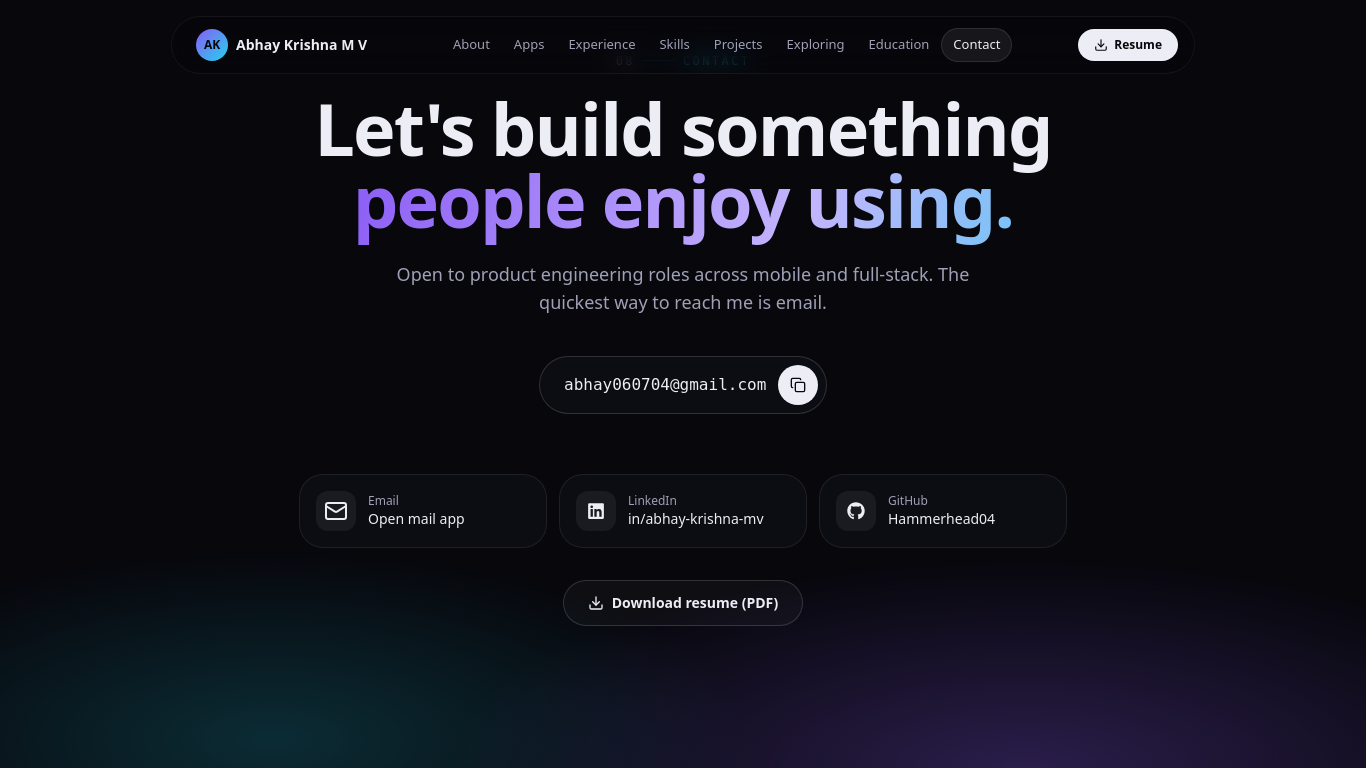
Portfolio page › copies the email to the clipboard
(page scrolled)
expect the link with test id "resume-download" is shown: met, box [563,580,803,626]
Click the button with aria-label "copy email address".
click(683, 385)  # box [539,356,827,414]
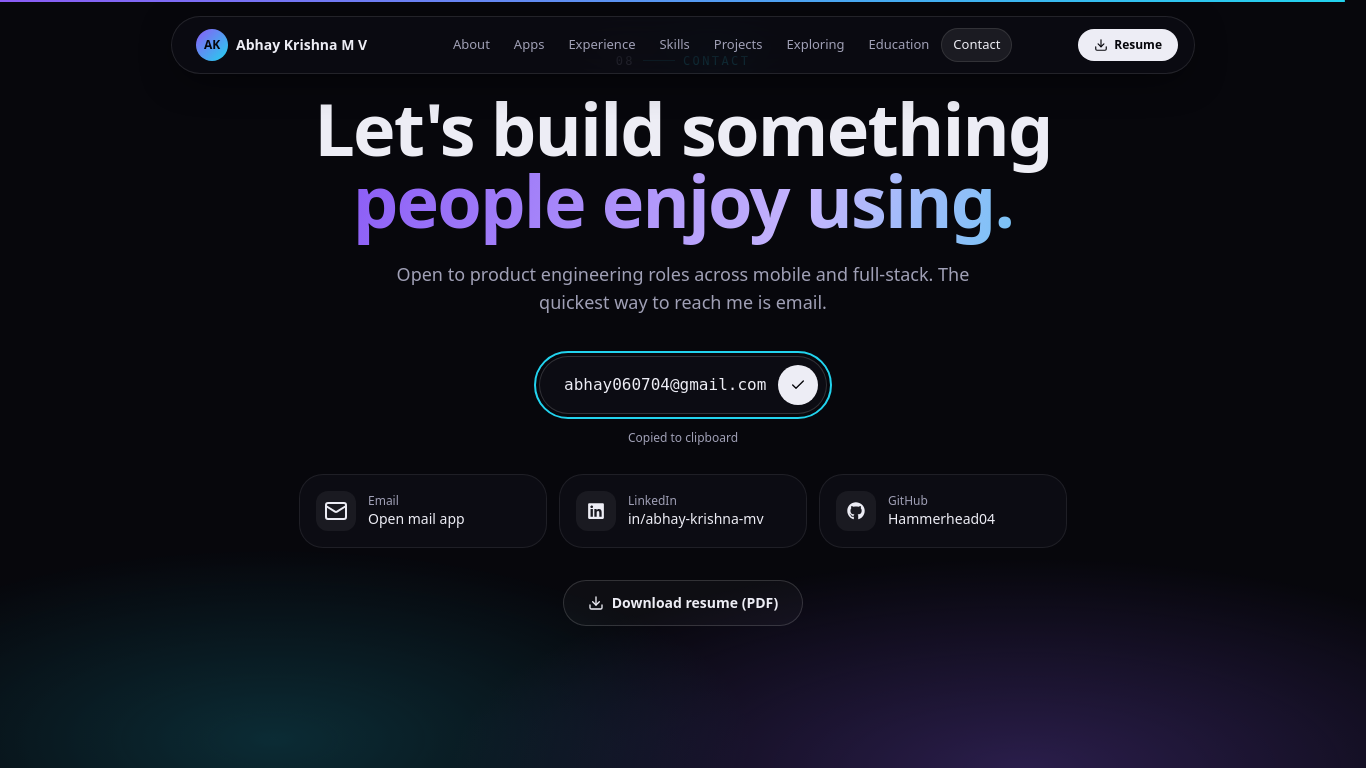
expect the text "Copied to clipboard" is shown: met, box [628,430,738,450]
